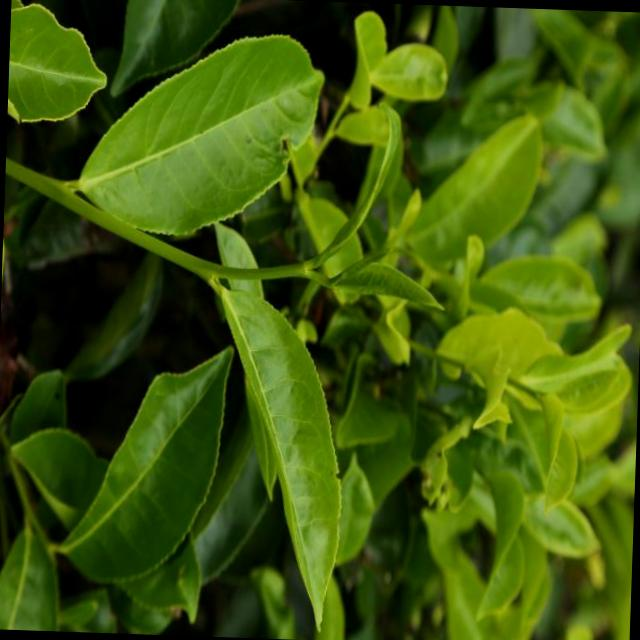Stem: (287, 260, 304, 275)
